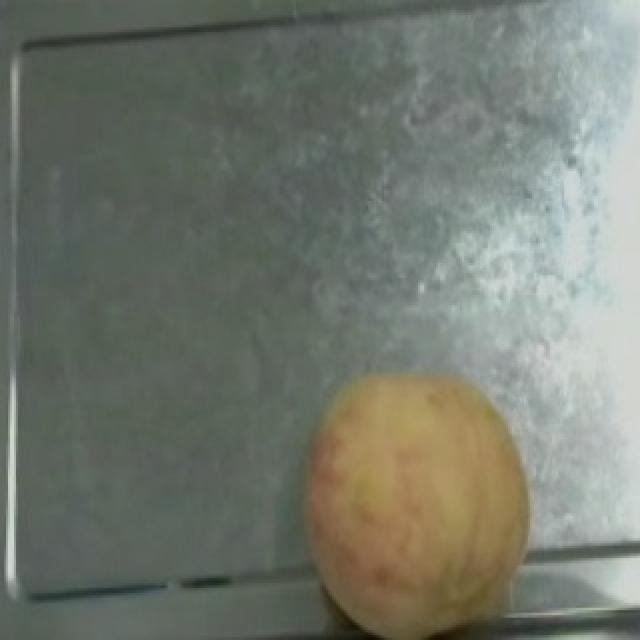Fruit: (278, 347, 552, 640)
